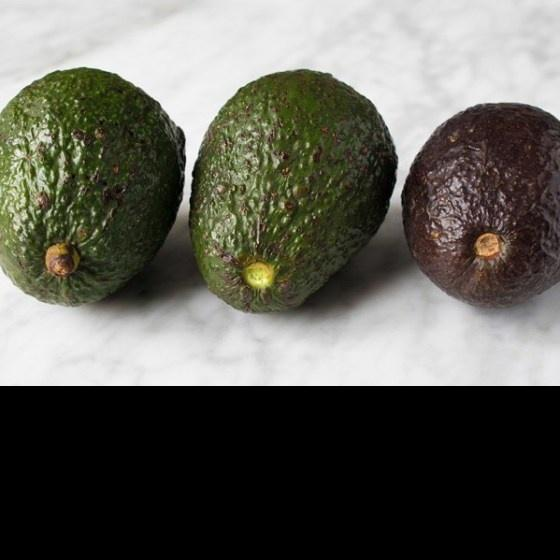ripe: (402, 103, 560, 309)
unripe: (188, 70, 398, 314), (1, 68, 186, 307)
